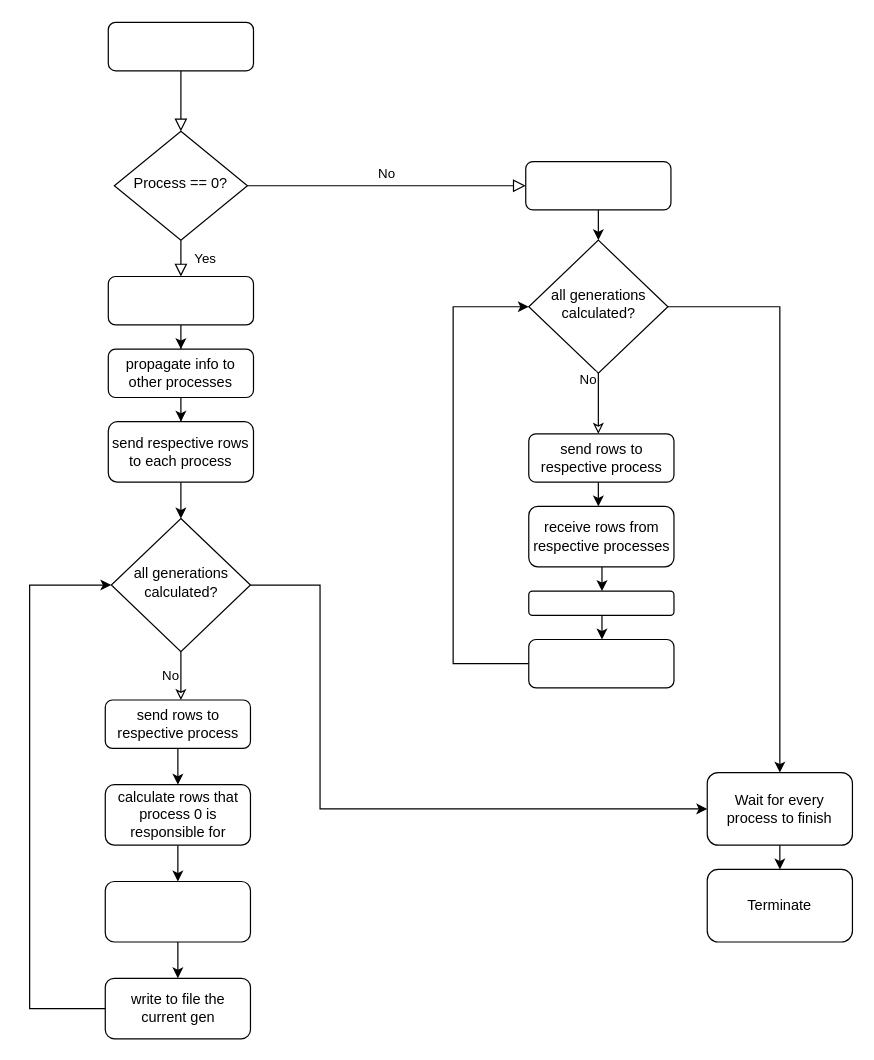
The diagram is 874 pixels wide and 1060 high, and some of its shapes have lost their labels. The shapes that lost their labels are listed below. From the top down, each one's centre as x and y in pixels, then its label:
At (180,46): "Init variables".
At (598,185): "receive info from process 0".
At (180,300): "read generation 0".
At (601,602): "calculate rows".
At (601,663): "send rows to process 0".
At (177,911): "receive rows from other process other than 0".
